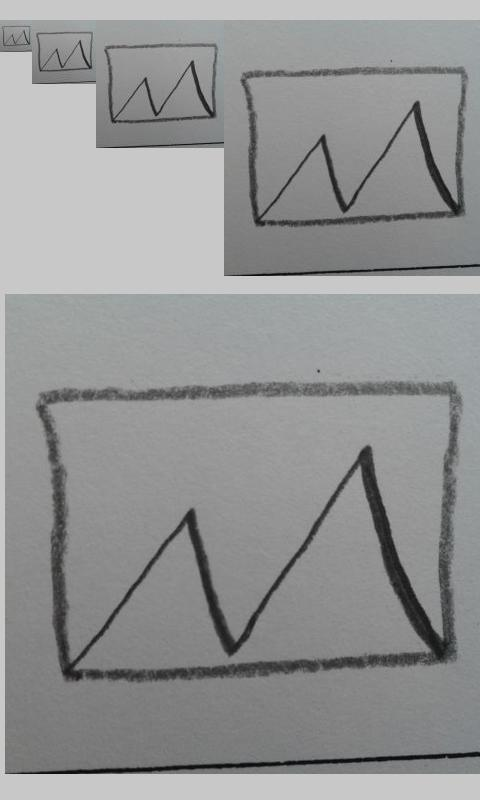image_view: (41, 379, 462, 681), (239, 61, 468, 230), (105, 43, 217, 124), (35, 31, 94, 72), (2, 25, 31, 47)
